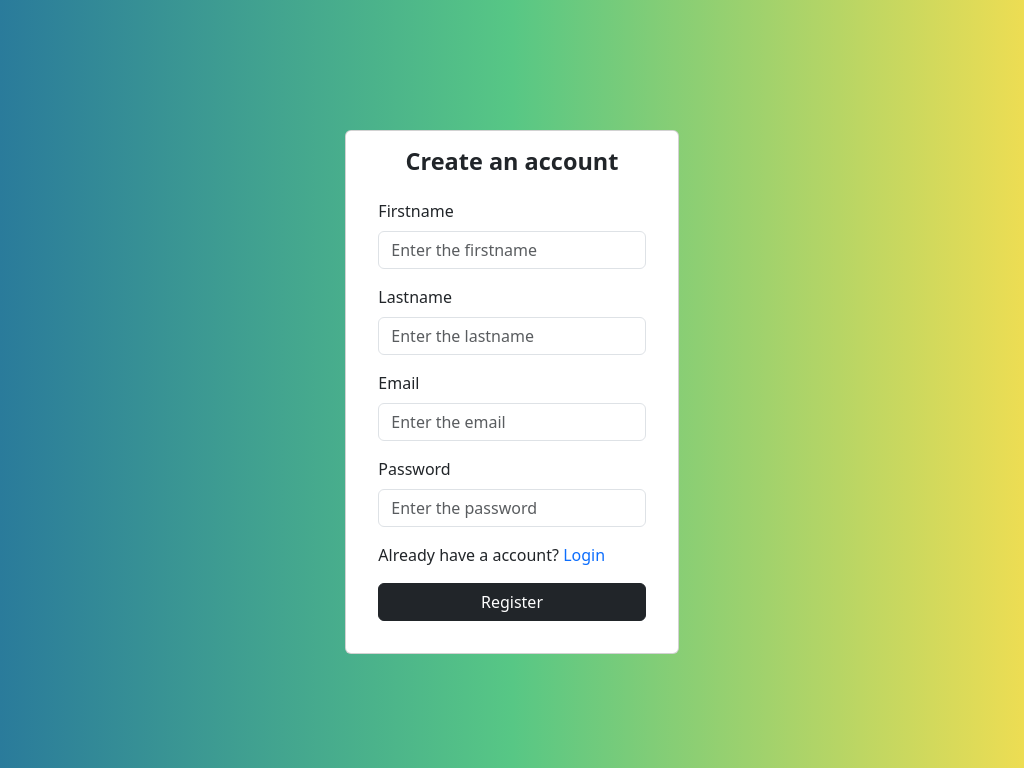
Scenario: Register Component › shows password minLength error for short password
Type "123" into the password field labelled "Password" at {"x": 512, "y": 508}, box top-left (378, 489), bottom-right (646, 527)
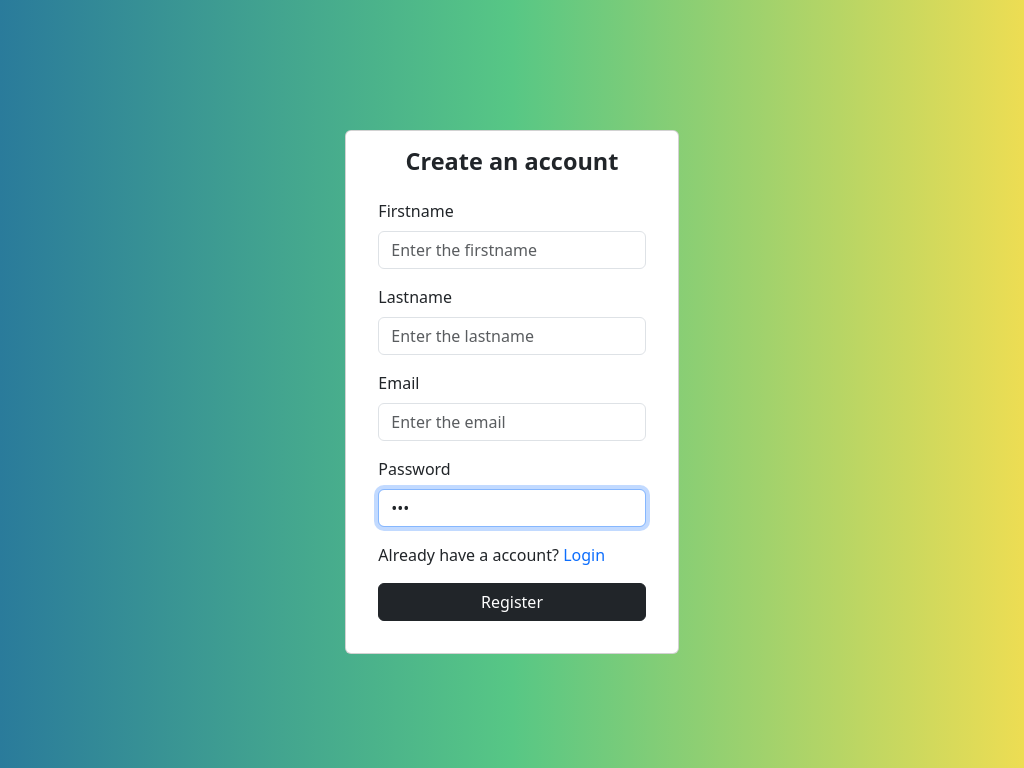
Click the button "Register" at {"x": 512, "y": 602}, box top-left (378, 583), bottom-right (646, 621)
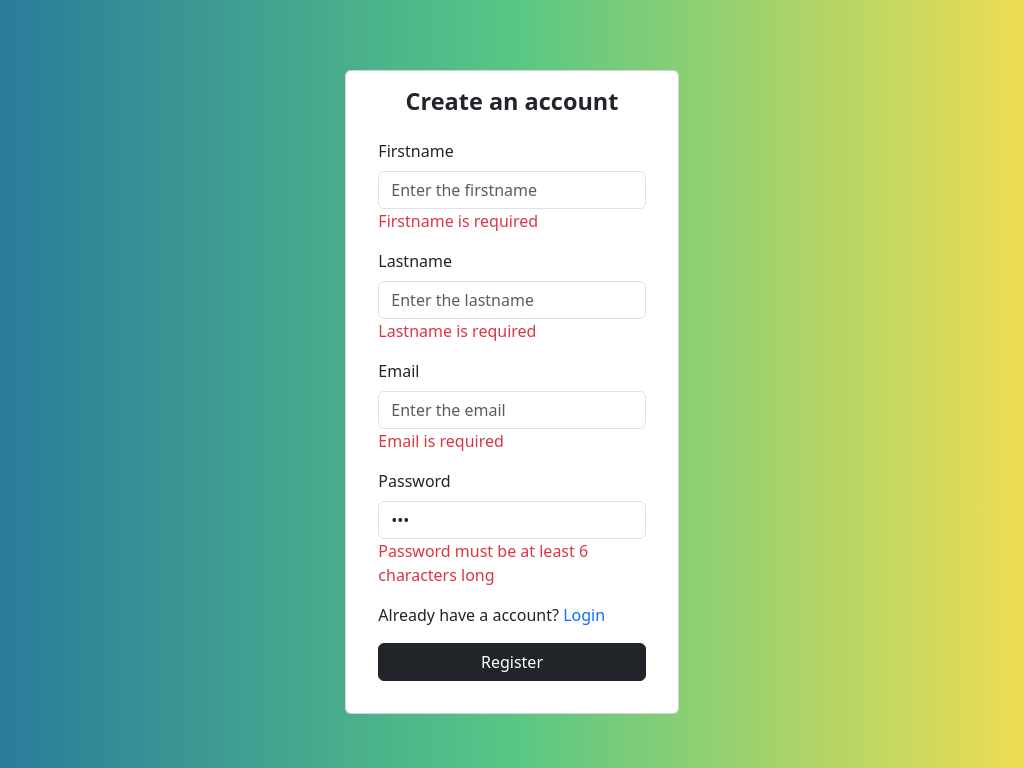
Result: the text "Password must be at least 6 characters long" is shown at top-left (378, 540), bottom-right (588, 586)
